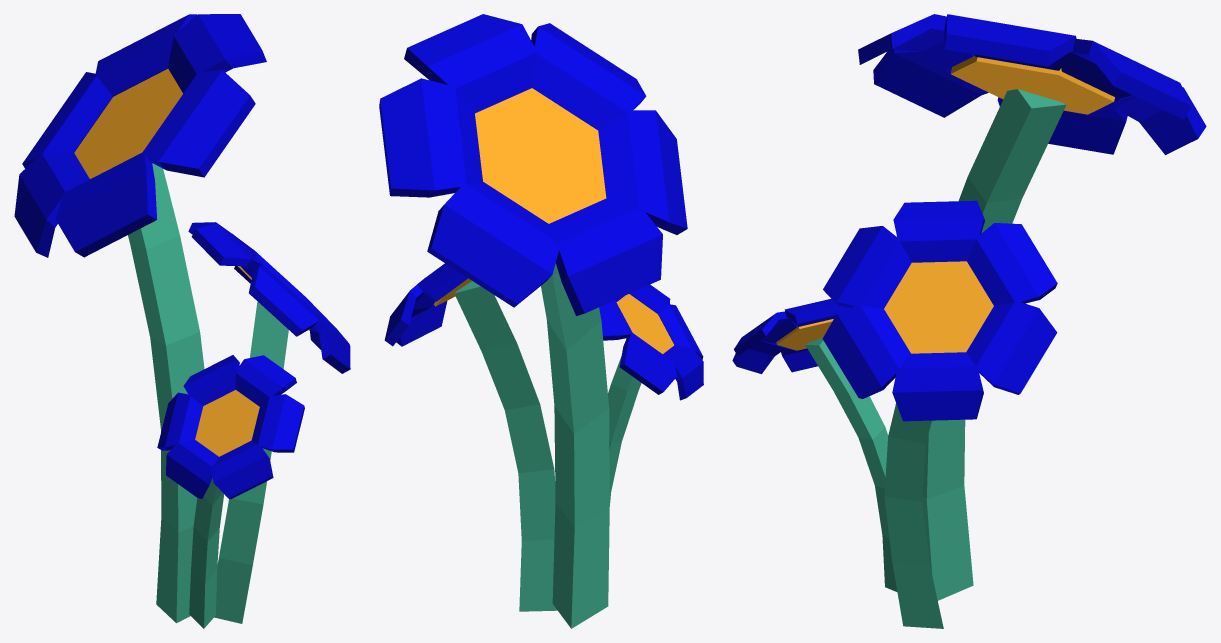
File: FloresAzules.fbx
3 renders of one model, left to right at view 1: azimuth 30°, elevation 25°; view 2: azimuth 150°, elevation 25°; view 3: azimuth 270°, elevation 25°, orthographic. The views are drawn at different scales.
Visible parts, largest first — view 1: Cube.004; view 2: Cube.004; view 3: Cube.004.
Boxes of the visible parts, left/top/right/bottom form: Cube.004: left=14, top=14, right=350, bottom=628; Cube.004: left=379, top=14, right=703, bottom=628; Cube.004: left=732, top=14, right=1206, bottom=628.
Bounding box in the file's own units: 27.98 × 55.41 × 38.77.
